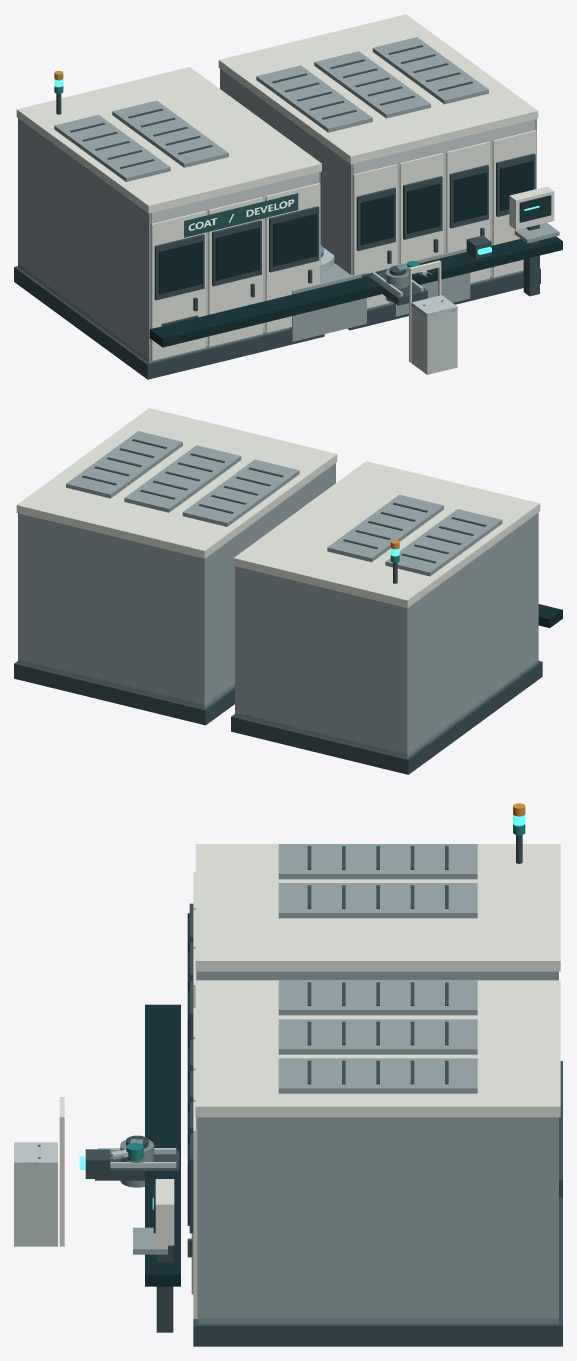
The model's file is track.glb.
The picture shows the model from 3 angles, top to bottom: view 1: azimuth 30°, elevation 25°; view 2: azimuth 150°, elevation 25°; view 3: azimuth 270°, elevation 25°; orthographic projection. The views are drawn at different scales.
Visible parts, largest first — view 1: outer_panels, process_modules, port, trackRobot; view 2: outer_panels, process_modules; view 3: outer_panels, process_modules, port, trackRobot.
Boxes of the visible parts, x1,y1,x2,y2 form: outer_panels: [14, 14, 540, 379]; process_modules: [149, 186, 562, 347]; port: [409, 260, 457, 374]; trackRobot: [367, 265, 427, 305]; outer_panels: [14, 408, 542, 774]; process_modules: [538, 604, 562, 627]; outer_panels: [187, 803, 562, 1346]; process_modules: [85, 1004, 193, 1332]; port: [14, 1097, 64, 1246]; trackRobot: [95, 1135, 179, 1187].
Bounding box in the file's own units: 6.2 × 3.16 × 5.33.
13 materials, 1 textured.
